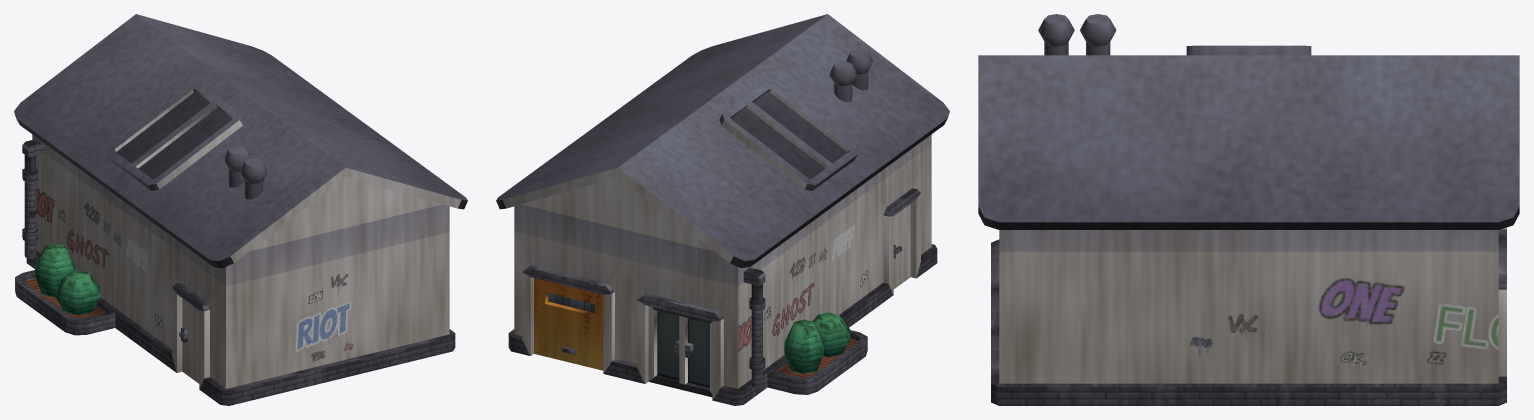
The model's file is building-i-white-scuffed.glb.
The picture shows the model from 3 angles, left to right: view 1: azimuth 30°, elevation 25°; view 2: azimuth 150°, elevation 25°; view 3: azimuth 270°, elevation 25°; orthographic projection. The views are drawn at different scales.
Visible parts, largest first — view 1: building-i; view 2: building-i; view 3: building-i.
Part boxes in pixels (left/top/right/bottom): building-i: left=14, top=14, right=467, bottom=405; building-i: left=496, top=14, right=949, bottom=405; building-i: left=978, top=14, right=1519, bottom=405.
Size of the model in its own units: 1.03 by 0.7335 by 1.3.
1 material, 1 textured.
